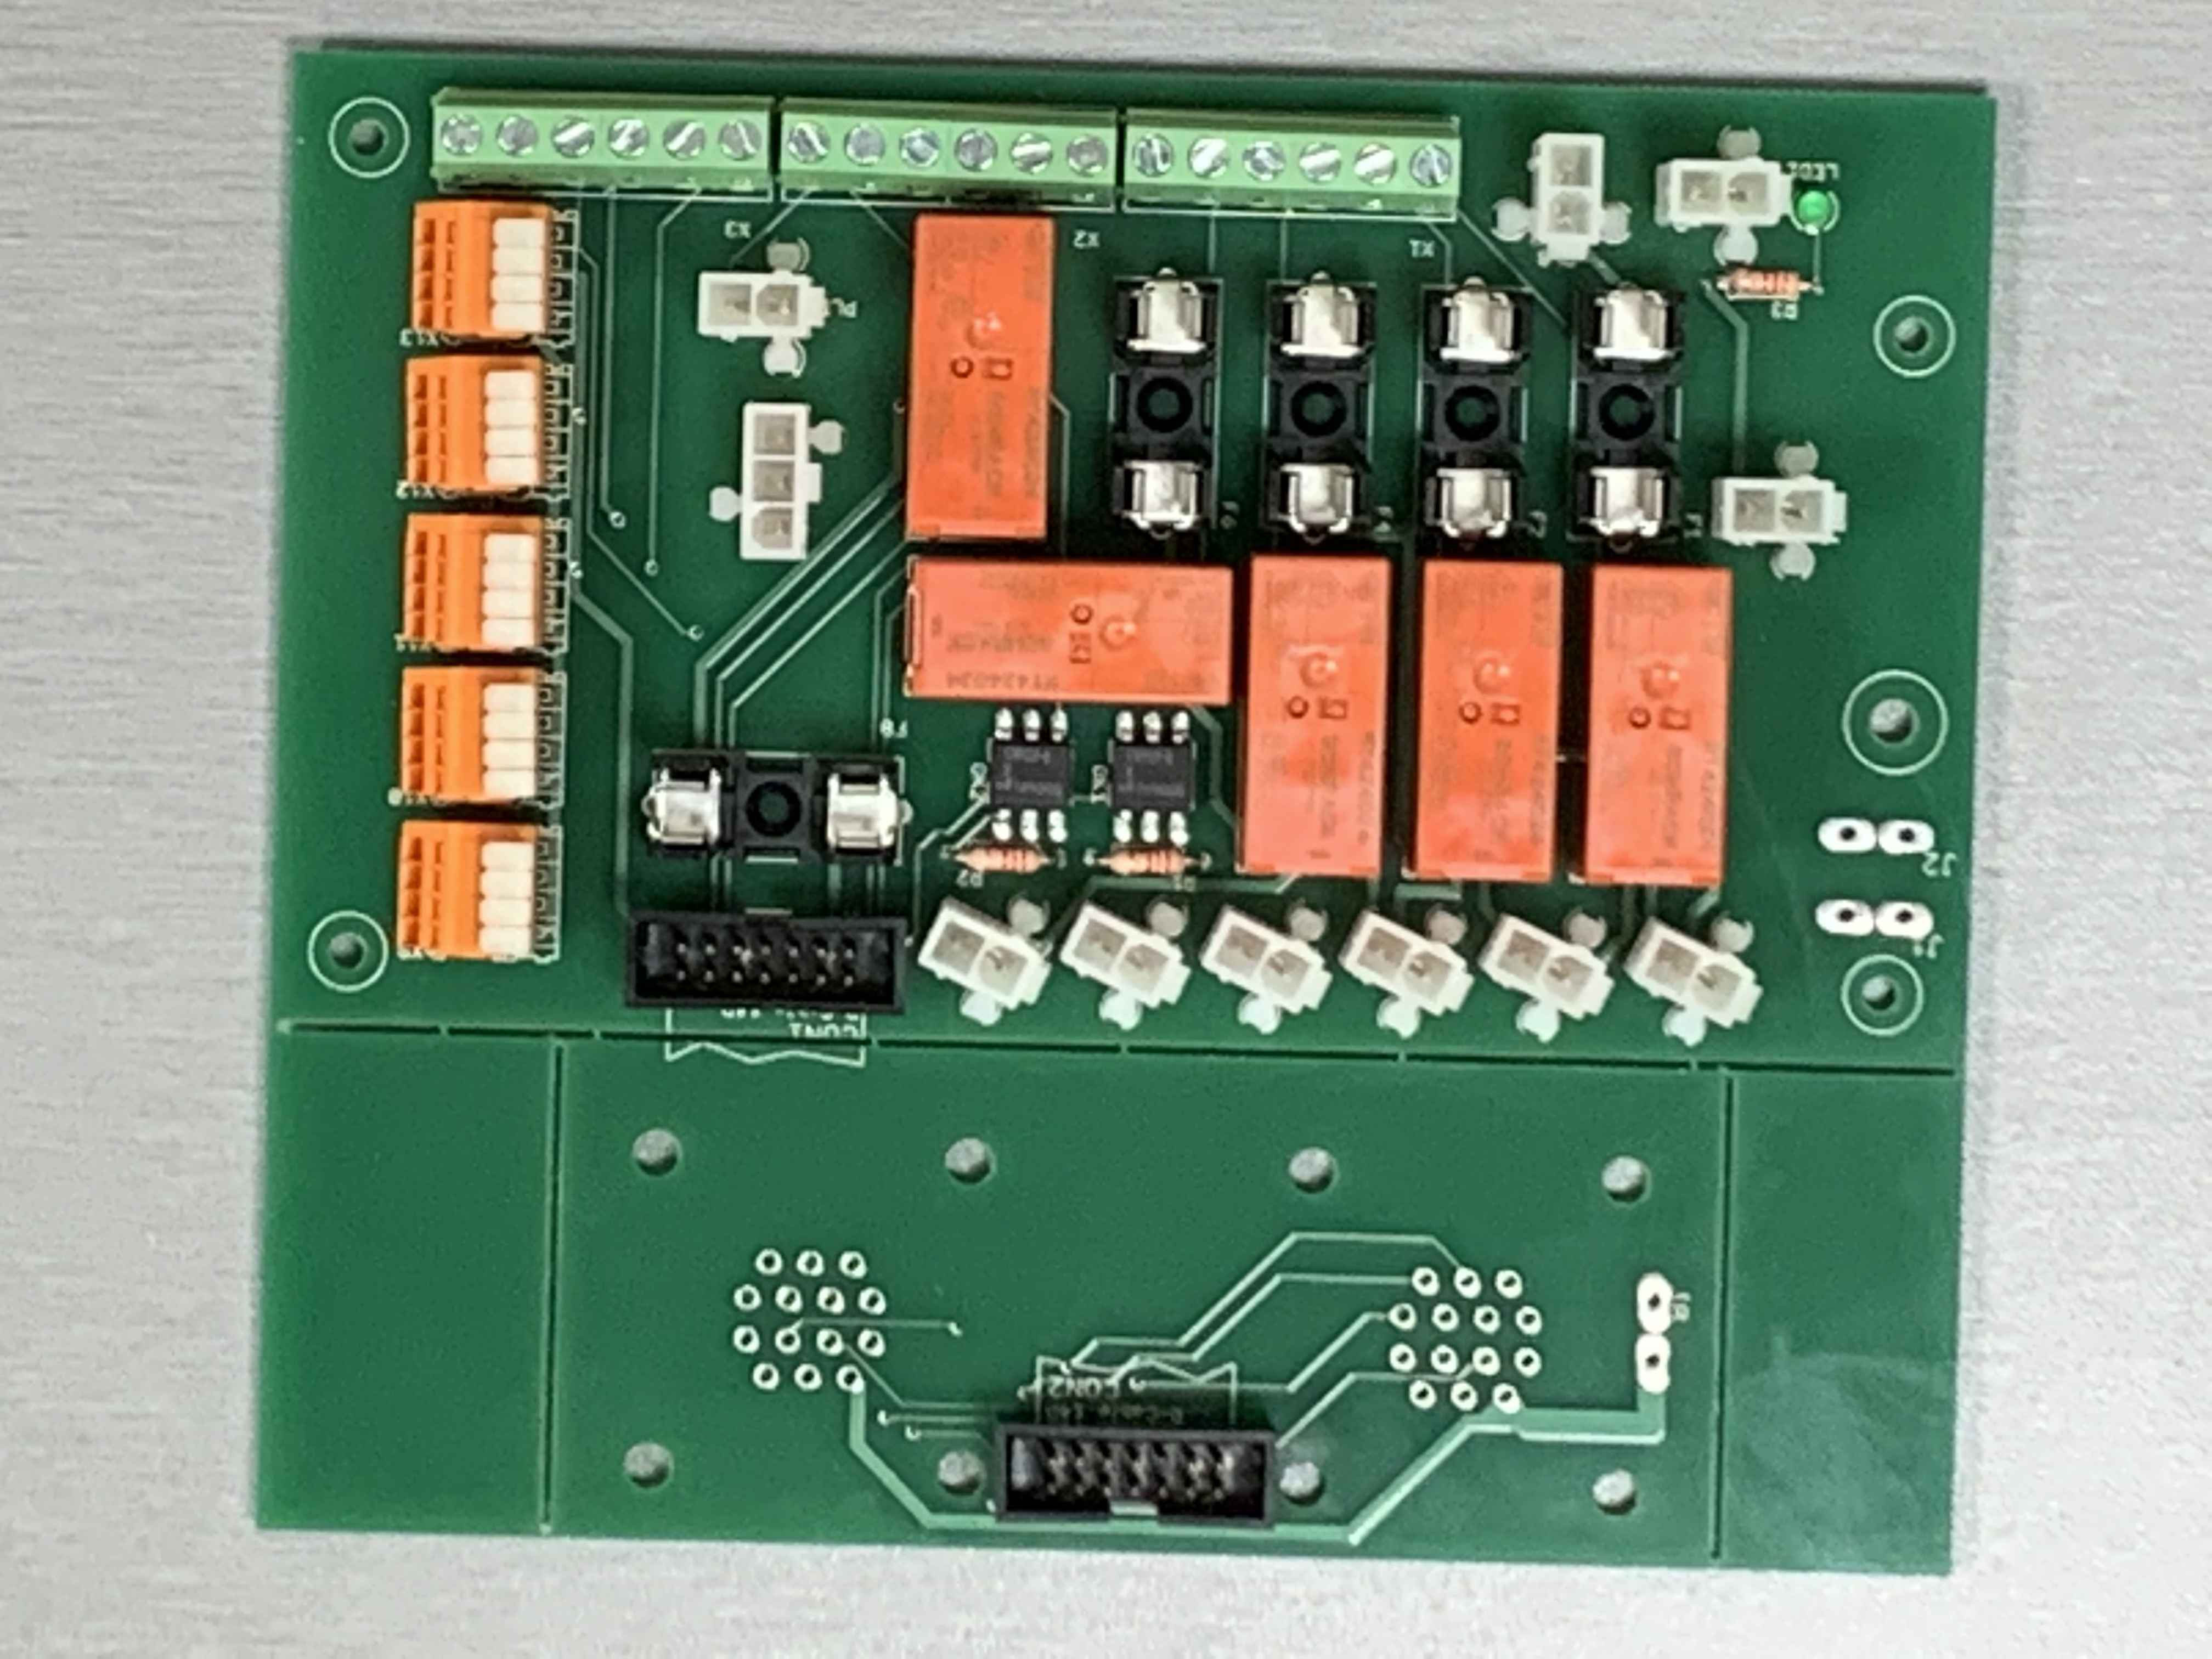LED: (1797, 181, 1843, 230)
Resistor: (951, 843, 1064, 882), (1721, 263, 1815, 301), (1099, 849, 1202, 882)
